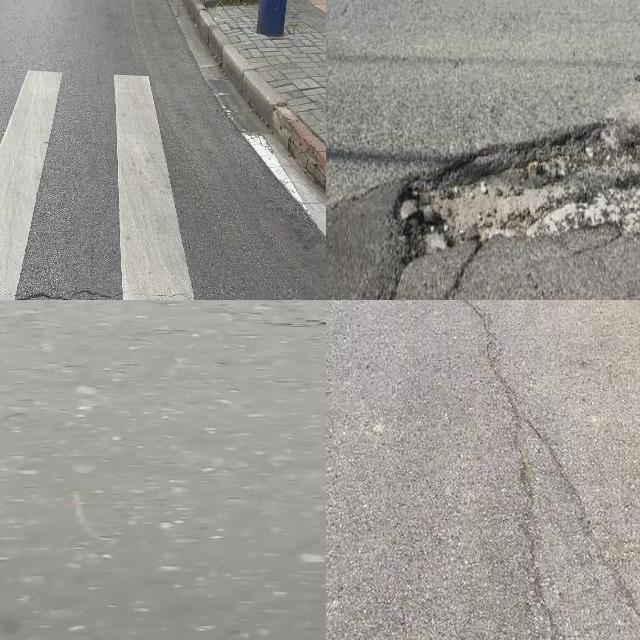Lubang: (391, 115, 640, 251)
Melintang: (267, 306, 326, 334)
Memanjang: (445, 300, 640, 638), (496, 436, 559, 640)
